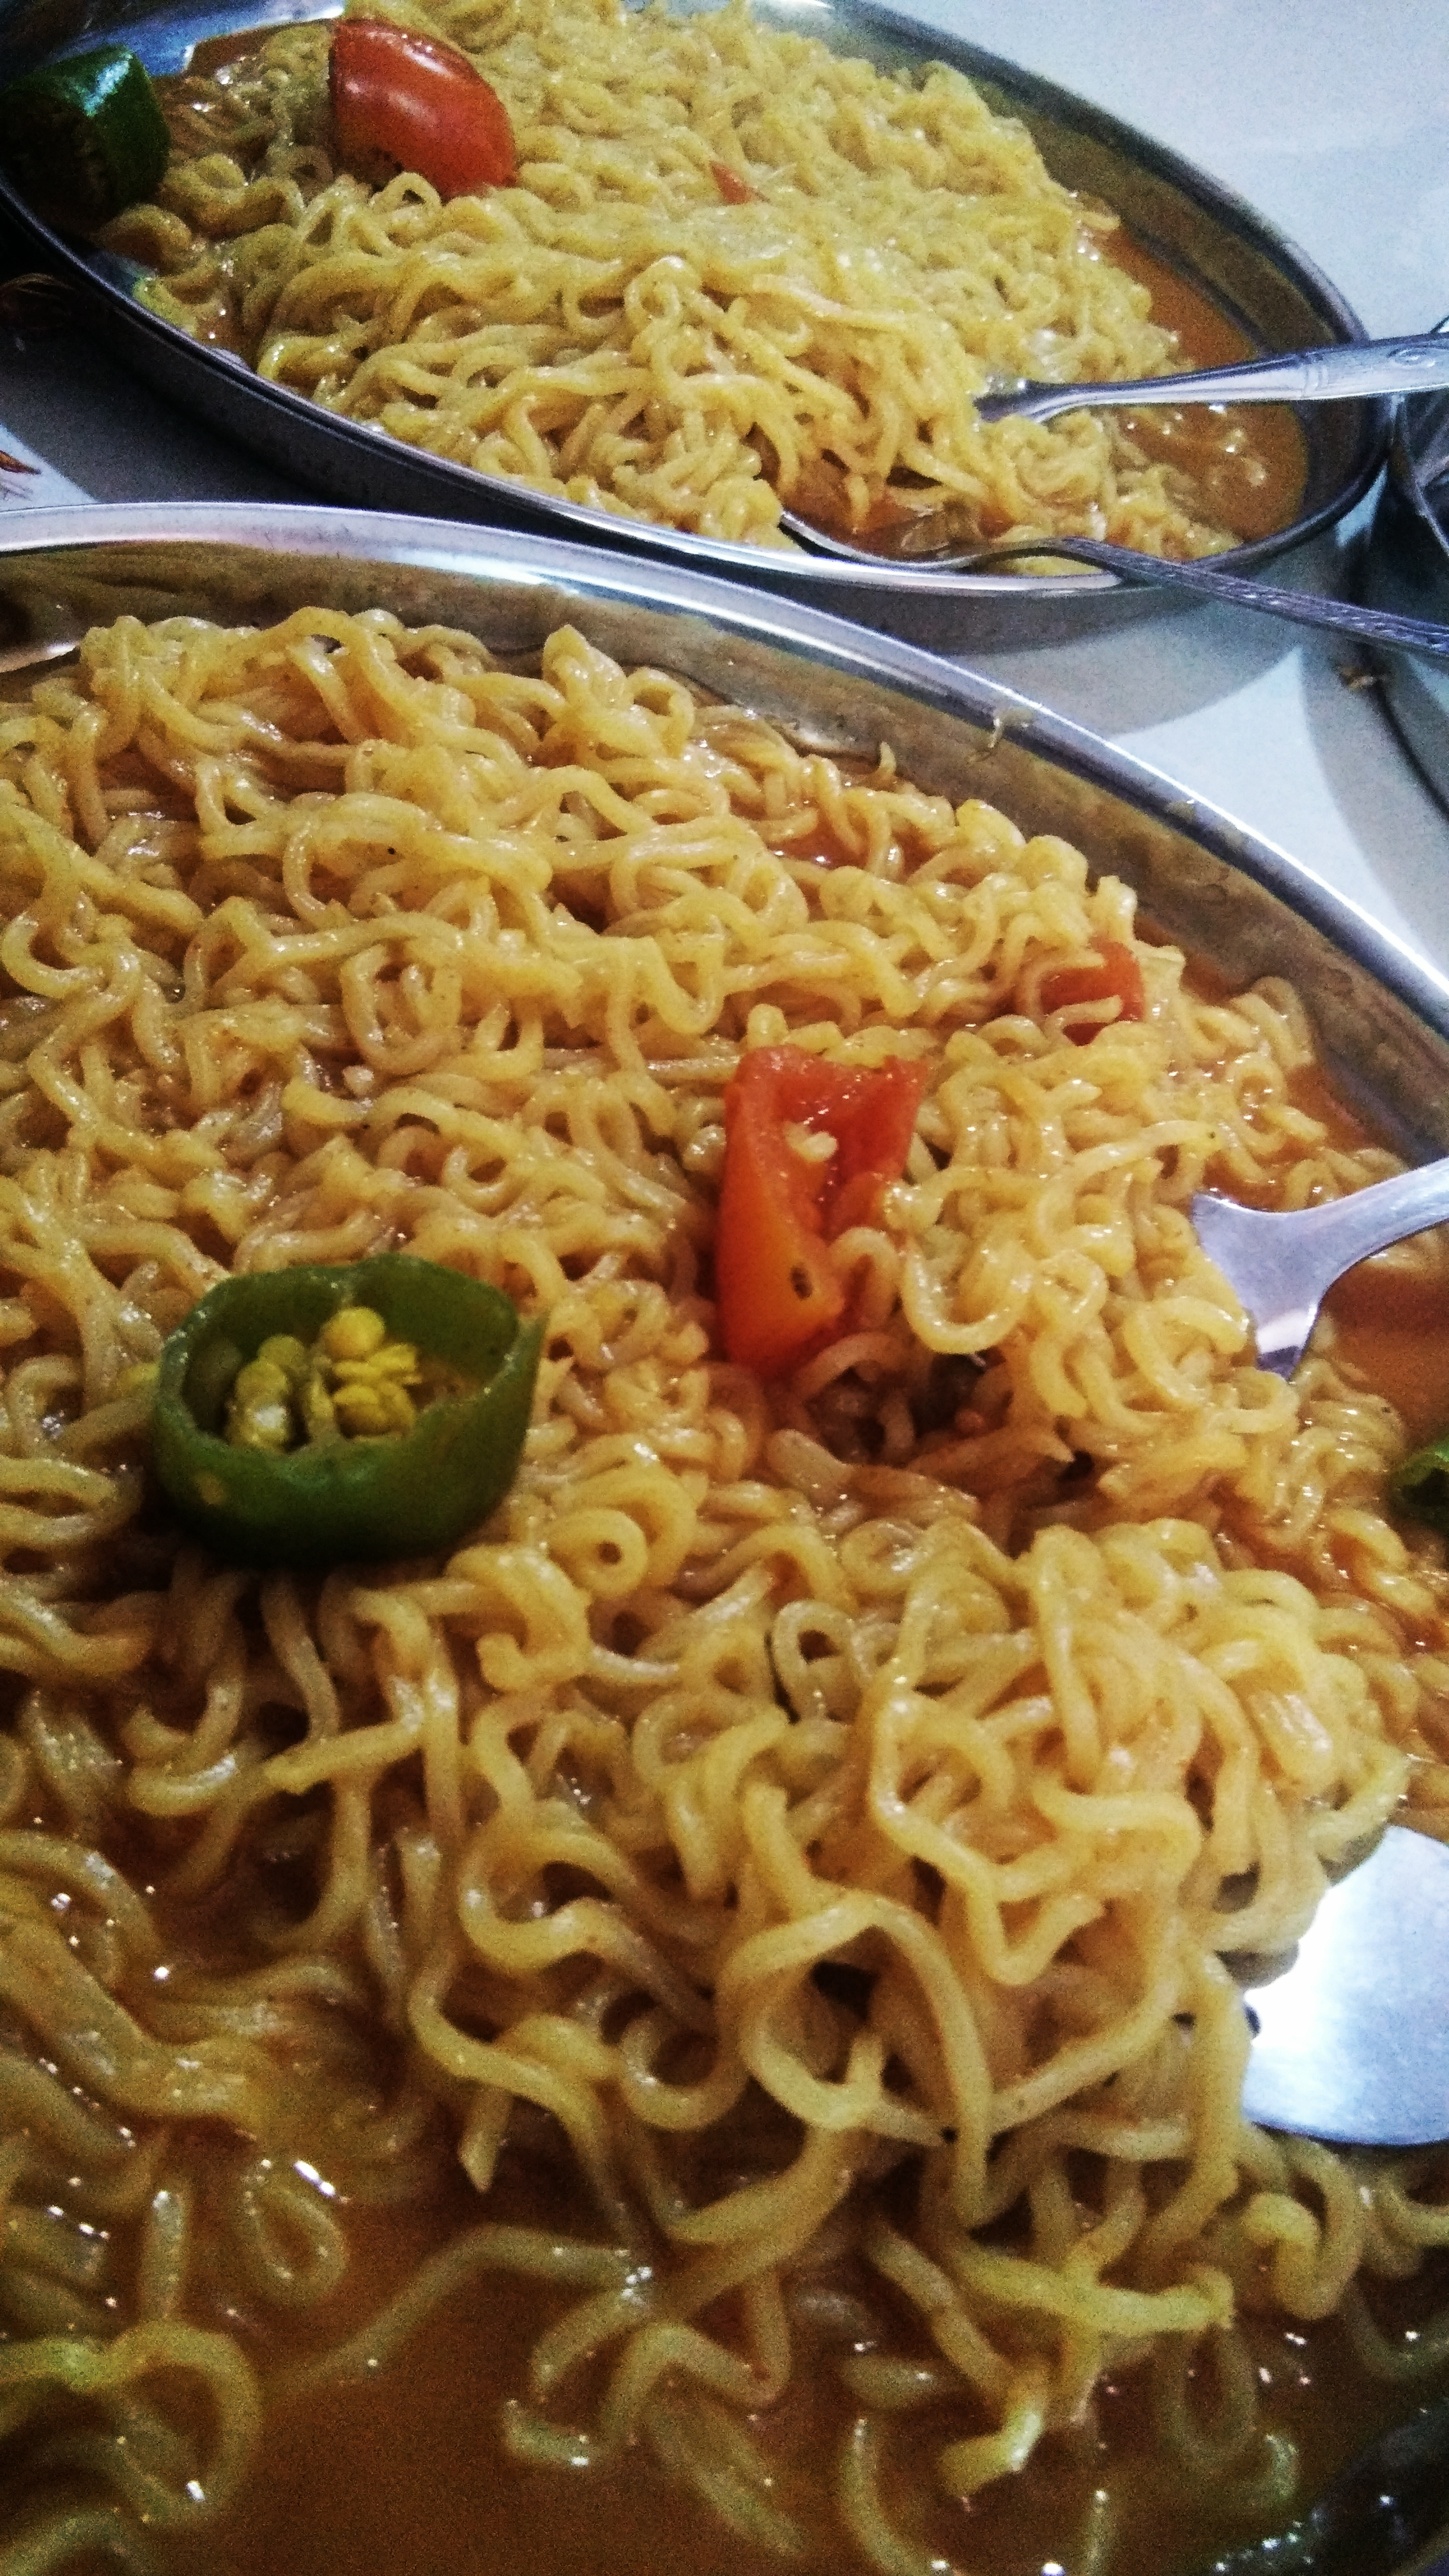food: (0, 543, 1449, 2576), (0, 2, 1334, 596)
